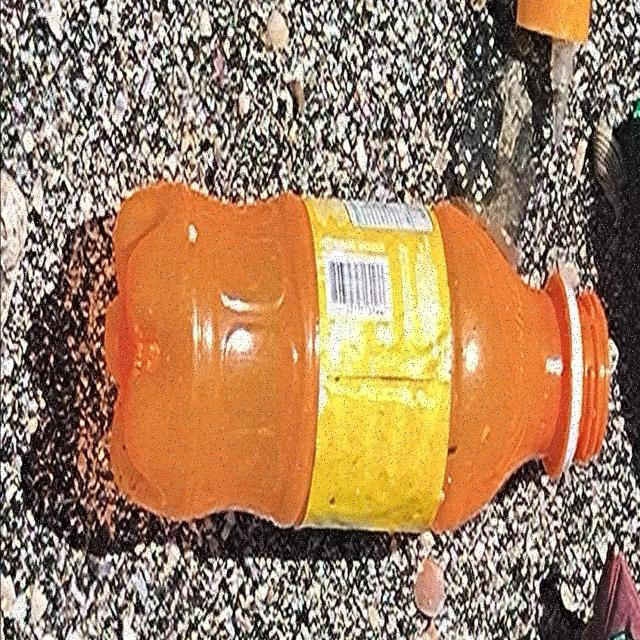plastic_waste: (103, 174, 614, 539)
